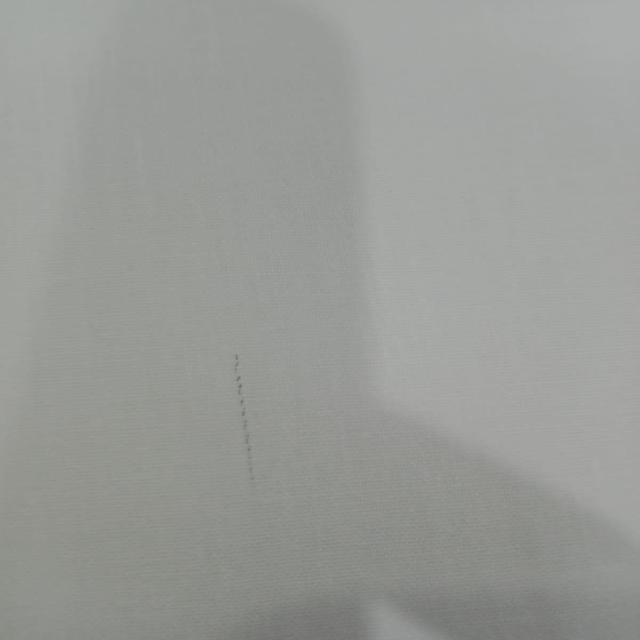contamination: (221, 341, 273, 488)
